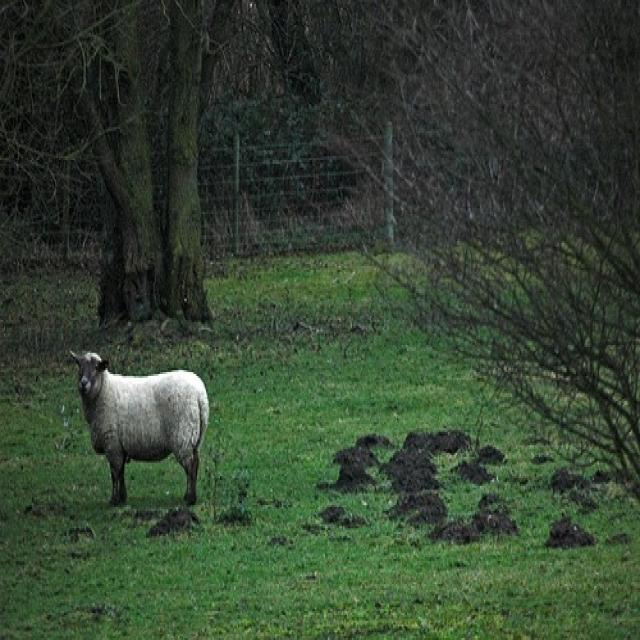sheep: (69, 352, 212, 504)
